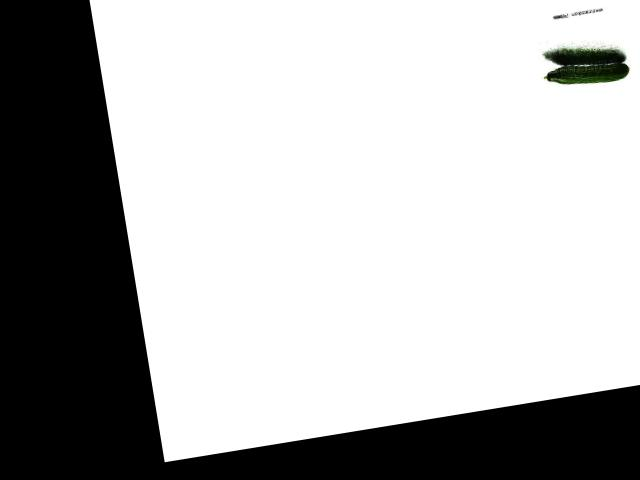cucumber: (542, 55, 629, 92)
